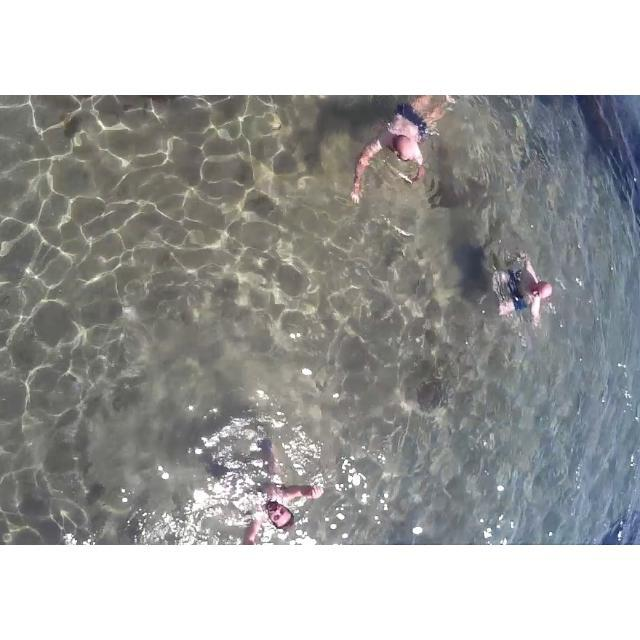human: (350, 95, 450, 216), (491, 239, 557, 339)
